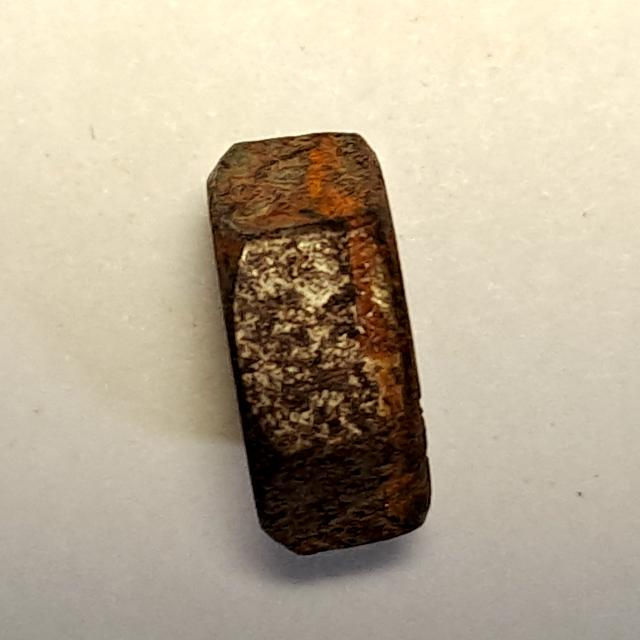Side_Rust: (192, 119, 446, 575)
